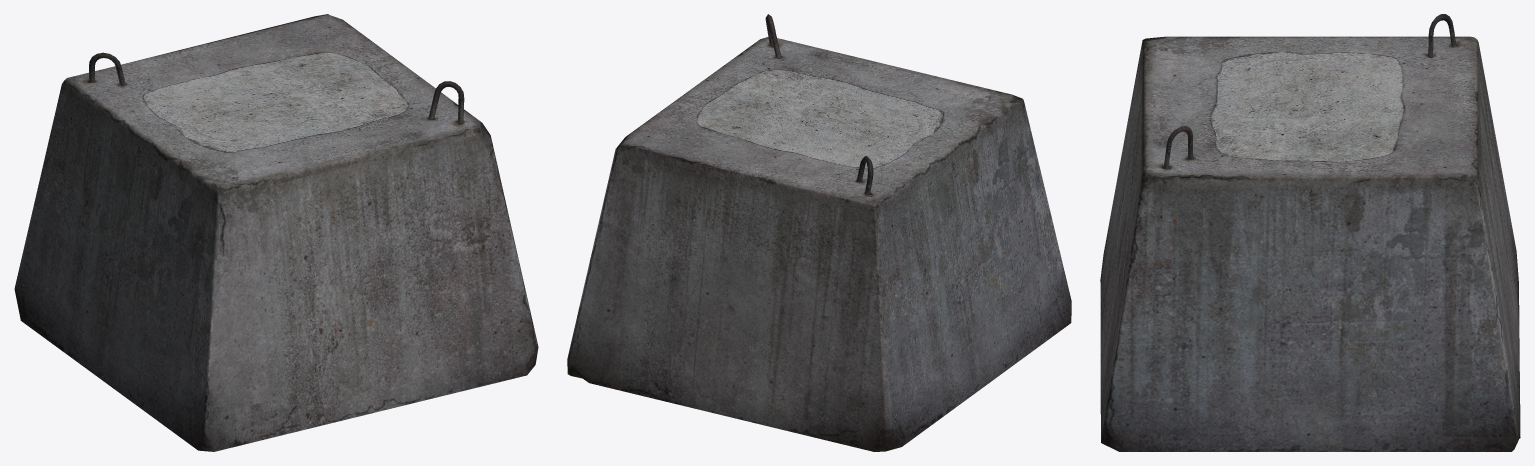
Rendered from SM_fence_base.FBX.
The picture shows the model from 3 angles, left to right: view 1: azimuth 30°, elevation 25°; view 2: azimuth 150°, elevation 25°; view 3: azimuth 270°, elevation 25°; orthographic projection. The views are drawn at different scales.
Visible parts, largest first — view 1: fence_base; view 2: fence_base; view 3: fence_base.
Part boxes in pixels (<box>): fence_base: <box>14,14,538,451</box>; fence_base: <box>567,14,1071,451</box>; fence_base: <box>1100,14,1520,451</box>.
Size of what is drawn, in the model's own units: 82.02 by 63.55 by 81.75.
